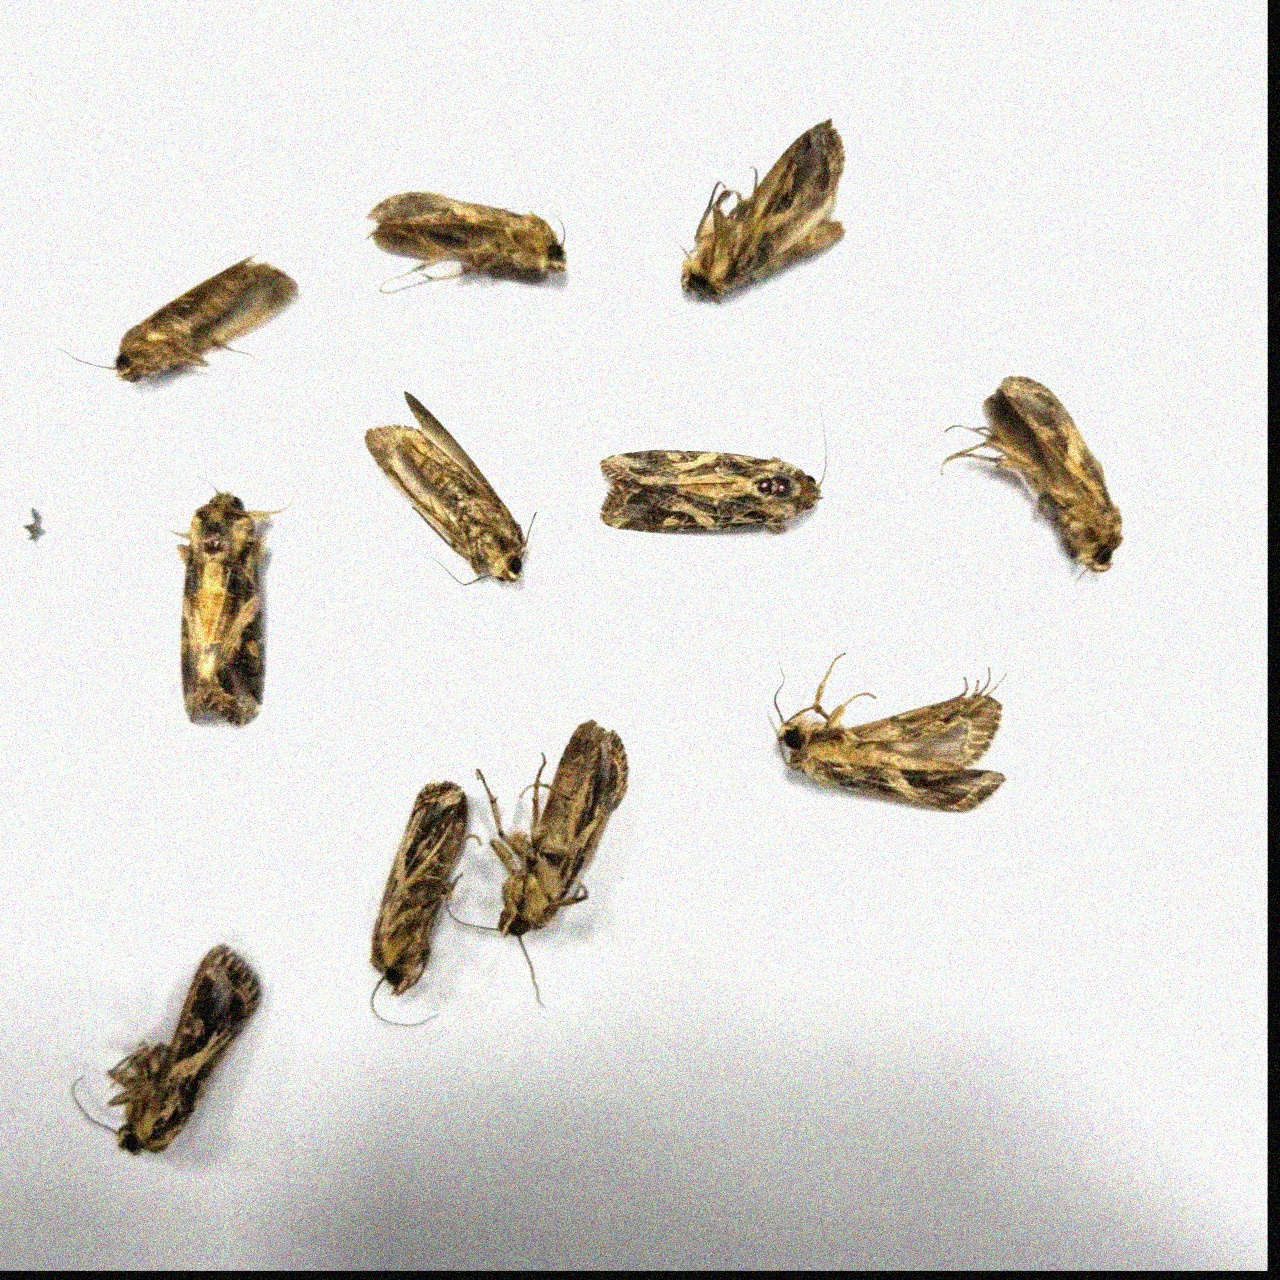Spodoptera litura: (444, 719, 628, 1007), (939, 374, 1125, 602), (69, 942, 263, 1155), (767, 649, 1008, 811), (646, 116, 846, 306), (148, 474, 297, 726), (48, 243, 301, 381), (363, 390, 536, 585), (595, 392, 828, 533), (368, 777, 481, 1026), (365, 188, 567, 295)
